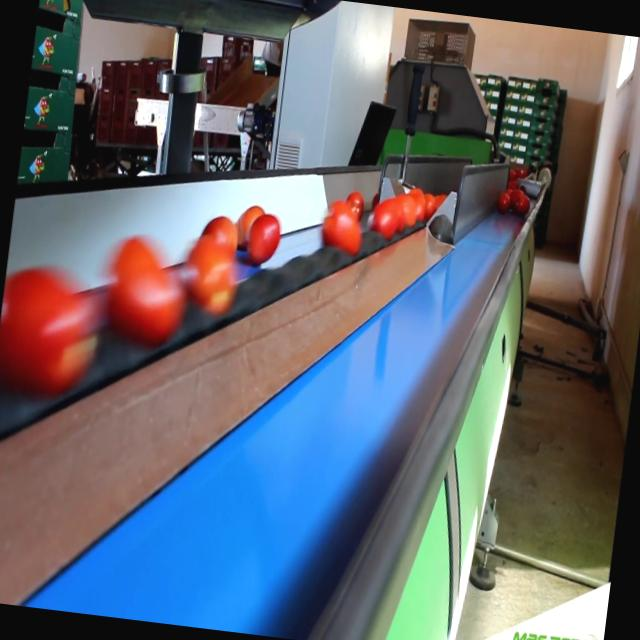Tomato: (0, 260, 107, 401), (102, 232, 190, 356), (182, 232, 240, 326), (316, 200, 367, 257), (246, 211, 286, 267), (200, 212, 246, 254), (364, 194, 401, 242), (234, 196, 266, 241), (392, 192, 422, 228), (505, 187, 530, 216), (413, 192, 438, 220)
